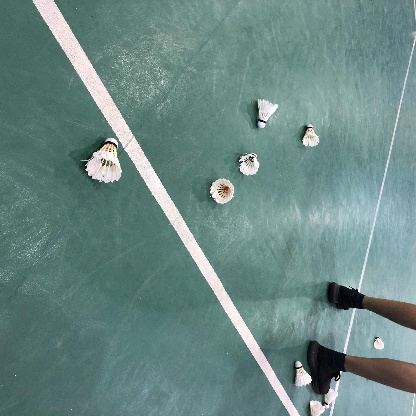ball_single: (85, 138, 122, 183), (257, 99, 279, 128), (210, 178, 234, 204), (294, 361, 313, 387), (239, 153, 259, 175), (302, 124, 319, 147), (324, 388, 338, 409), (310, 400, 325, 416), (374, 337, 384, 349)
